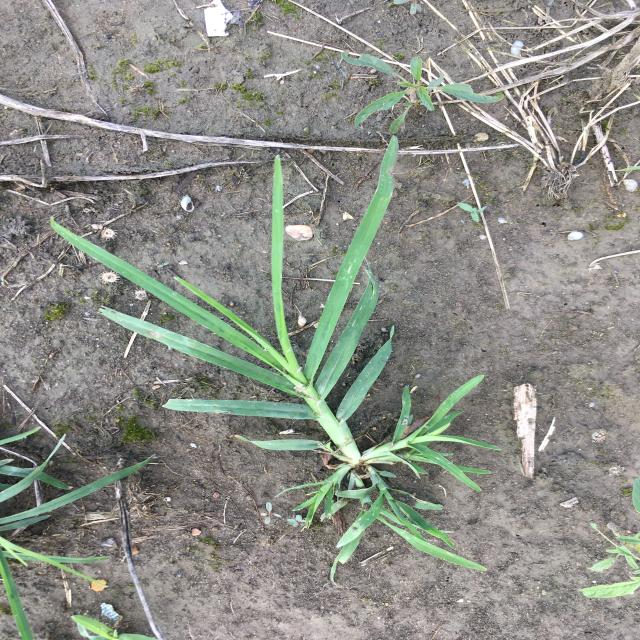Goosegrass: (46, 135, 505, 587)
Waterhemp: (340, 49, 507, 139)
